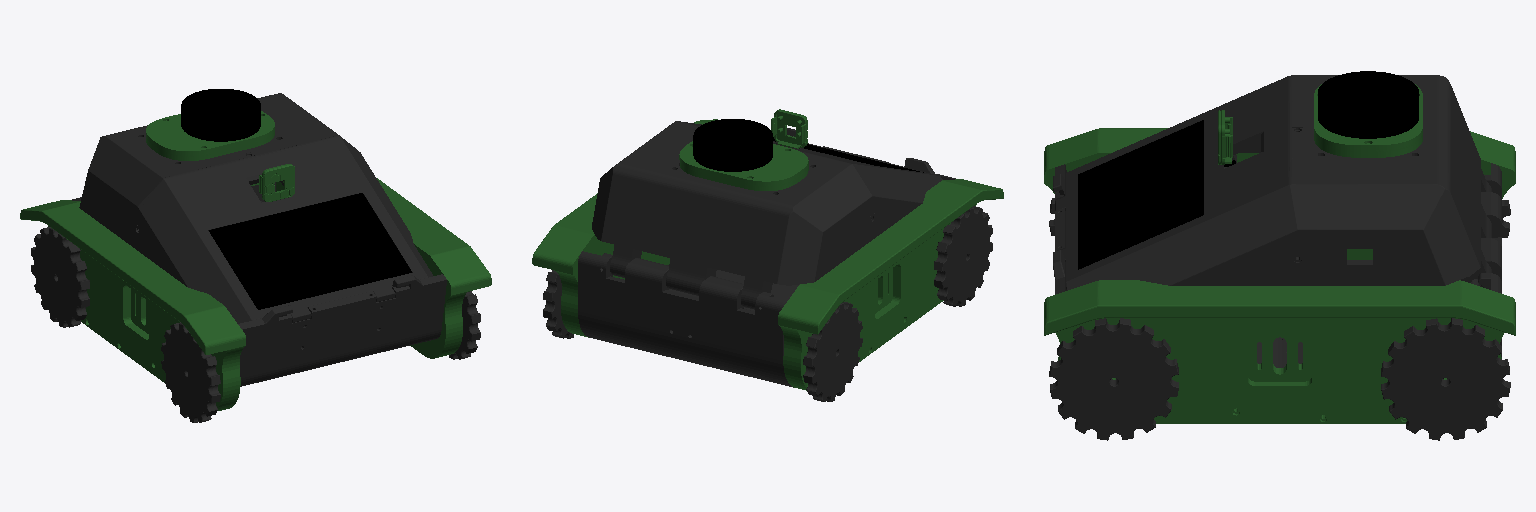
The robot description file, URDF, robot "AROBO7":
<?xml version="1.0" ?>
<!-- =================================================================================== -->
<!-- |    This document was autogenerated by xacro from [local-path]/dev_ws/src/AROBO7/description/robot.urdf.xacro | -->
<!-- |    EDITING THIS FILE BY HAND IS NOT RECOMMENDED                                 | -->
<!-- =================================================================================== -->
<robot name="AROBO7">
  <!-- Old ROS1 sub args from python script, dont use
<xacro:include filename="$(find AROBO7)/description/materials.xacro" />
<xacro:include filename="$(find AROBO7)/description/AROBO7.trans" />
<xacro:include filename="$(find AROBO7)/description/AROBO7.gazebo" />
-->
  <material name="silver">
    <color rgba="0.700 0.700 0.700 1.000"/>
  </material>
  <material name="olive">
    <color rgba="0.200 0.400 0.200 1.000"/>
  </material>
  <material name="black">
    <color rgba="0.00 0.00 0.00 1.000"/>
  </material>
  <material name="darkgrey">
    <color rgba="0.200 0.200 0.200 1.000"/>
  </material>
  <transmission name="right_drive_tran">
    <type>transmission_interface/SimpleTransmission</type>
    <joint name="right_drive">
      <hardwareInterface>hardware_interface/EffortJointInterface</hardwareInterface>
    </joint>
    <actuator name="right_drive_actr">
      <hardwareInterface>hardware_interface/EffortJointInterface</hardwareInterface>
      <mechanicalReduction>1</mechanicalReduction>
    </actuator>
  </transmission>
  <transmission name="left_drive_tran">
    <type>transmission_interface/SimpleTransmission</type>
    <joint name="left_drive">
      <hardwareInterface>hardware_interface/EffortJointInterface</hardwareInterface>
    </joint>
    <actuator name="left_drive_actr">
      <hardwareInterface>hardware_interface/EffortJointInterface</hardwareInterface>
      <mechanicalReduction>1</mechanicalReduction>
    </actuator>
  </transmission>
  <gazebo>
    <plugin filename="libgazebo_ros_control.so" name="control"/>
  </gazebo>
  <gazebo reference="base_link">
    <material>Gazebo/Grey</material>
    <mu1>0.2</mu1>
    <mu2>0.2</mu2>
    <selfCollide>true</selfCollide>
    <gravity>true</gravity>
  </gazebo>
  <gazebo reference="drive_side_plate_v42_1_1">
    <material>Gazebo/Green</material>
    <mu1>0.2</mu1>
    <mu2>0.2</mu2>
    <selfCollide>true</selfCollide>
  </gazebo>
  <gazebo reference="sprocket_new_v28_1_1">
    <material>Gazebo/Grey</material>
    <mu1>0.05</mu1>
    <mu2>0.05</mu2>
    <selfCollide>true</selfCollide>
  </gazebo>
  <gazebo reference="sprocket_new_v28_2_1">
    <material>Gazebo/Grey</material>
    <mu1>0.2</mu1>
    <mu2>0.2</mu2>
    <selfCollide>true</selfCollide>
  </gazebo>
  <gazebo reference="drive_side_plate_v42_Mirror__1_1">
    <material>Gazebo/Green</material>
    <mu1>0.2</mu1>
    <mu2>0.2</mu2>
    <selfCollide>true</selfCollide>
  </gazebo>
  <gazebo reference="sprocket_new_v28_4_1">
    <material>Gazebo/Grey</material>
    <mu1>0.2</mu1>
    <mu2>0.2</mu2>
    <selfCollide>true</selfCollide>
  </gazebo>
  <gazebo reference="sprocket_new_v28_3_1">
    <material>Gazebo/Grey</material>
    <mu1>0.05</mu1>
    <mu2>0.05</mu2>
    <selfCollide>true</selfCollide>
  </gazebo>
  <gazebo reference="lower_chassis_front_v6_1_1">
    <material>Gazebo/Grey</material>
    <mu1>0.2</mu1>
    <mu2>0.2</mu2>
    <selfCollide>true</selfCollide>
  </gazebo>
  <gazebo reference="upper_chassis_back_v10_1_1">
    <material>Gazebo/Grey</material>
    <mu1>0.2</mu1>
    <mu2>0.2</mu2>
    <selfCollide>true</selfCollide>
  </gazebo>
  <gazebo reference="upper_chassis_front_v12_1_1">
    <material>Gazebo/Grey</material>
    <mu1>0.2</mu1>
    <mu2>0.2</mu2>
    <selfCollide>true</selfCollide>
  </gazebo>
  <gazebo reference="RpLidar_Case_Top_High_v6_1_1">
    <material>Gazebo/Green</material>
    <mu1>0.2</mu1>
    <mu2>0.2</mu2>
    <selfCollide>true</selfCollide>
  </gazebo>
  <gazebo reference="rplidar_sensor_v1_1_1">
    <material>Gazebo/Black</material>
    <mu1>0.2</mu1>
    <mu2>0.2</mu2>
    <selfCollide>true</selfCollide>
  </gazebo>
  <gazebo reference="RpLidar_Case_Bot_v8_1_1">
    <material>Gazebo/Green</material>
    <mu1>0.2</mu1>
    <mu2>0.2</mu2>
    <selfCollide>true</selfCollide>
  </gazebo>
  <gazebo reference="IPITSBIT_Touchscreen_7in_v4_1_1">
    <material>Gazebo/Black</material>
    <mu1>0.2</mu1>
    <mu2>0.2</mu2>
    <selfCollide>true</selfCollide>
  </gazebo>
  <gazebo reference="camera_back_2">
    <material>Gazebo/Green</material>
    <mu1>0.2</mu1>
    <mu2>0.2</mu2>
    <selfCollide>true</selfCollide>
  </gazebo>
  <gazebo reference="camera_front_v7_1_1">
    <material>Gazebo/Green</material>
    <mu1>0.2</mu1>
    <mu2>0.2</mu2>
    <selfCollide>true</selfCollide>
  </gazebo>
  <link name="base_link">
    <inertial>
      <origin rpy="0 0 0" xyz="0.13096721223027635 0.20058924182261065 0.2752839368254627"/>
      <mass value="3.2922550379120885"/>
      <inertia ixx="0.011321" ixy="-4e-06" ixz="-1e-06" iyy="0.016138" iyz="-0.003328" izz="0.021277"/>
    </inertial>
    <visual>
      <origin rpy="0 0 0" xyz="0 0 0"/>
      <geometry>
        <mesh filename="package://AROBO7/description/meshes/base_link.stl" scale="0.001 0.001 0.001"/>
      </geometry>
      <material name="darkgrey"/>
    </visual>
    <collision>
      <origin rpy="0 0 0" xyz="0 0 0"/>
      <geometry>
        <mesh filename="package://AROBO7/description/meshes/base_link.stl" scale="0.001 0.001 0.001"/>
      </geometry>
    </collision>
  </link>
  <link name="drive_side_plate_v42_1_1">
    <inertial>
      <origin rpy="0 0 0" xyz="-0.012023150431202044 -0.09333406272773866 0.0566326473522496"/>
      <mass value="5.326807202481426"/>
      <inertia ixx="0.052355" ixy="6.5e-05" ixz="0.000596" iyy="0.00619" iyz="-0.000154" izz="0.047069"/>
    </inertial>
    <visual>
      <origin rpy="0 0 0" xyz="-0.020984 -0.18342 -0.253475"/>
      <geometry>
        <mesh filename="package://AROBO7/description/meshes/drive_side_plate_v42_1_1.stl" scale="0.001 0.001 0.001"/>
      </geometry>
      <material name="olive"/>
    </visual>
    <collision>
      <origin rpy="0 0 0" xyz="-0.020984 -0.18342 -0.253475"/>
      <geometry>
        <mesh filename="package://AROBO7/description/meshes/drive_side_plate_v42_1_1.stl" scale="0.001 0.001 0.001"/>
      </geometry>
    </collision>
  </link>
  <link name="sprocket_new_v28_1_1">
    <inertial>
      <origin rpy="0 0 0" xyz="-0.010830985333184509 2.382412599234718e-06 -3.4590502762665842e-06"/>
      <mass value="0.5034568043679143"/>
      <inertia ixx="0.000505" ixy="-0.0" ixz="0.0" iyy="0.000257" iyz="-0.0" izz="0.000257"/>
    </inertial>
    <visual>
      <origin rpy="0 0 0" xyz="-0.002484 0.028711 -0.290475"/>
      <geometry>
        <mesh filename="package://AROBO7/description/meshes/sprocket_new_v28_1_1.stl" scale="0.001 0.001 0.001"/>
      </geometry>
      <material name="darkgrey"/>
    </visual>
    <collision>
      <origin rpy="0 0 0" xyz="-0.002484 0.028711 -0.290475"/>
      <geometry>
        <mesh filename="package://AROBO7/description/meshes/sprocket_new_v28_1_1.stl" scale="0.001 0.001 0.001"/>
      </geometry>
    </collision>
  </link>
  <link name="sprocket_new_v28_2_1">
    <inertial>
      <origin rpy="0 0 0" xyz="-0.01083098533318511 2.3777572445426998e-06 -3.459050277654363e-06"/>
      <mass value="0.5034568043679143"/>
      <inertia ixx="0.000505" ixy="-0.0" ixz="0.0" iyy="0.000257" iyz="-0.0" izz="0.000257"/>
    </inertial>
    <visual>
      <origin rpy="0 0 0" xyz="-0.002484 -0.213419 -0.290475"/>
      <geometry>
        <mesh filename="package://AROBO7/description/meshes/sprocket_new_v28_2_1.stl" scale="0.001 0.001 0.001"/>
      </geometry>
      <material name="darkgrey"/>
    </visual>
    <collision>
      <origin rpy="0 0 0" xyz="-0.002484 -0.213419 -0.290475"/>
      <geometry>
        <mesh filename="package://AROBO7/description/meshes/sprocket_new_v28_2_1.stl" scale="0.001 0.001 0.001"/>
      </geometry>
    </collision>
  </link>
  <link name="drive_side_plate_v42_Mirror__1_1">
    <inertial>
      <origin rpy="0 0 0" xyz="0.012022509624825789 -0.14949706270783558 0.04579464742293965"/>
      <mass value="5.326807201855023"/>
      <inertia ixx="0.052355" ixy="-6.5e-05" ixz="-0.000596" iyy="0.00619" iyz="-0.000154" izz="0.047069"/>
    </inertial>
    <visual>
      <origin rpy="0 0 0" xyz="-0.240984 -0.239583 -0.264313"/>
      <geometry>
        <mesh filename="package://AROBO7/description/meshes/drive_side_plate_v42_Mirror__1_1.stl" scale="0.001 0.001 0.001"/>
      </geometry>
      <material name="olive"/>
    </visual>
    <collision>
      <origin rpy="0 0 0" xyz="-0.240984 -0.239583 -0.264313"/>
      <geometry>
        <mesh filename="package://AROBO7/description/meshes/drive_side_plate_v42_Mirror__1_1.stl" scale="0.001 0.001 0.001"/>
      </geometry>
    </collision>
  </link>
  <link name="sprocket_new_v28_4_1">
    <inertial>
      <origin rpy="0 0 0" xyz="0.010830340021314333 2.377757242044698e-06 4.442076691701935e-06"/>
      <mass value="0.5034568043679111"/>
      <inertia ixx="0.000505" ixy="0.0" ixz="0.0" iyy="0.000257" iyz="0.0" izz="0.000257"/>
    </inertial>
    <visual>
      <origin rpy="0 0 0" xyz="-0.259484 -0.213419 -0.290475"/>
      <geometry>
        <mesh filename="package://AROBO7/description/meshes/sprocket_new_v28_4_1.stl" scale="0.001 0.001 0.001"/>
      </geometry>
      <material name="darkgrey"/>
    </visual>
    <collision>
      <origin rpy="0 0 0" xyz="-0.259484 -0.213419 -0.290475"/>
      <geometry>
        <mesh filename="package://AROBO7/description/meshes/sprocket_new_v28_4_1.stl" scale="0.001 0.001 0.001"/>
      </geometry>
    </collision>
  </link>
  <link name="sprocket_new_v28_3_1">
    <inertial>
      <origin rpy="0 0 0" xyz="0.010830340021315554 2.3824125974930555e-06 4.4420766926456245e-06"/>
      <mass value="0.5034568043679192"/>
      <inertia ixx="0.000505" ixy="0.0" ixz="0.0" iyy="0.000257" iyz="0.0" izz="0.000257"/>
    </inertial>
    <visual>
      <origin rpy="0 0 0" xyz="-0.259484 0.028711 -0.290475"/>
      <geometry>
        <mesh filename="package://AROBO7/description/meshes/sprocket_new_v28_3_1.stl" scale="0.001 0.001 0.001"/>
      </geometry>
      <material name="darkgrey"/>
    </visual>
    <collision>
      <origin rpy="0 0 0" xyz="-0.259484 0.028711 -0.290475"/>
      <geometry>
        <mesh filename="package://AROBO7/description/meshes/sprocket_new_v28_3_1.stl" scale="0.001 0.001 0.001"/>
      </geometry>
    </collision>
  </link>
  <link name="lower_chassis_front_v6_1_1">
    <inertial>
      <origin rpy="0 0 0" xyz="-0.06752027497646867 -0.10569116129549466 0.026875055875444365"/>
      <mass value="3.0761672555380986"/>
      <inertia ixx="0.010661" ixy="2e-06" ixz="-1e-06" iyy="0.014341" iyz="0.003357" izz="0.021129"/>
    </inertial>
    <visual>
      <origin rpy="0 0 0" xyz="-0.198484 -0.101605 -0.253475"/>
      <geometry>
        <mesh filename="package://AROBO7/description/meshes/lower_chassis_front_v6_1_1.stl" scale="0.001 0.001 0.001"/>
      </geometry>
      <material name="darkgrey"/>
    </visual>
    <collision>
      <origin rpy="0 0 0" xyz="-0.198484 -0.101605 -0.253475"/>
      <geometry>
        <mesh filename="package://AROBO7/description/meshes/lower_chassis_front_v6_1_1.stl" scale="0.001 0.001 0.001"/>
      </geometry>
    </collision>
  </link>
  <link name="upper_chassis_back_v10_1_1">
    <inertial>
      <origin rpy="0 0 0" xyz="0.02069821423371679 -0.04681860405746971 0.053343397365645306"/>
      <mass value="3.8016594283307508"/>
      <inertia ixx="0.008862" ixy="0.00016" ixz="-0.000247" iyy="0.026179" iyz="0.001827" izz="0.030198"/>
    </inertial>
    <visual>
      <origin rpy="0 0 0" xyz="-0.110984 -0.23642 -0.338705"/>
      <geometry>
        <mesh filename="package://AROBO7/description/meshes/upper_chassis_back_v10_1_1.stl" scale="0.001 0.001 0.001"/>
      </geometry>
      <material name="darkgrey"/>
    </visual>
    <collision>
      <origin rpy="0 0 0" xyz="-0.110984 -0.23642 -0.338705"/>
      <geometry>
        <mesh filename="package://AROBO7/description/meshes/upper_chassis_back_v10_1_1.stl" scale="0.001 0.001 0.001"/>
      </geometry>
    </collision>
  </link>
  <link name="upper_chassis_front_v12_1_1">
    <inertial>
      <origin rpy="0 0 0" xyz="-0.00011191810875865738 -0.0686938821678975 -0.04016009009950566"/>
      <mass value="2.368628323291725"/>
      <inertia ixx="0.00684" ixy="4.7e-05" ixz="2e-05" iyy="0.018257" iyz="-0.002351" izz="0.022292"/>
    </inertial>
    <visual>
      <origin rpy="0 0 0" xyz="-0.130884 -0.105388 -0.422426"/>
      <geometry>
        <mesh filename="package://AROBO7/description/meshes/upper_chassis_front_v12_1_1.stl" scale="0.001 0.001 0.001"/>
      </geometry>
      <material name="darkgrey"/>
    </visual>
    <collision>
      <origin rpy="0 0 0" xyz="-0.130884 -0.105388 -0.422426"/>
      <geometry>
        <mesh filename="package://AROBO7/description/meshes/upper_chassis_front_v12_1_1.stl" scale="0.001 0.001 0.001"/>
      </geometry>
    </collision>
  </link>
  <link name="RpLidar_Case_Top_High_v6_1_1">
    <inertial>
      <origin rpy="0 0 0" xyz="-0.06417189427357384 -3.830630171119953e-07 0.0025803158490367295"/>
      <mass value="0.0845829809011377"/>
      <inertia ixx="5.7e-05" ixy="-0.0" ixz="0.0" iyy="0.000128" iyz="-0.0" izz="0.000185"/>
    </inertial>
    <visual>
      <origin rpy="0 0 0" xyz="-0.174394 -0.156967 -0.432527"/>
      <geometry>
        <mesh filename="package://AROBO7/description/meshes/RpLidar_Case_Top_High_v6_1_1.stl" scale="0.001 0.001 0.001"/>
      </geometry>
      <material name="olive"/>
    </visual>
    <collision>
      <origin rpy="0 0 0" xyz="-0.174394 -0.156967 -0.432527"/>
      <geometry>
        <mesh filename="package://AROBO7/description/meshes/RpLidar_Case_Top_High_v6_1_1.stl" scale="0.001 0.001 0.001"/>
      </geometry>
    </collision>
  </link>
  <link name="RpLidar_Case_Bot_v8_1_1">
    <inertial>
      <origin rpy="0 0 0" xyz="-0.05411714563331993 -0.034343073172691474 -0.013957332277793222"/>
      <mass value="0.4471773333473896"/>
      <inertia ixx="0.000464" ixy="0.0" ixz="0.0" iyy="0.000828" iyz="-0.0" izz="0.001112"/>
    </inertial>
    <visual>
      <origin rpy="0 0 0" xyz="-0.173633 -0.19131 -0.418526"/>
      <geometry>
        <mesh filename="package://AROBO7/description/meshes/RpLidar_Case_Bot_v8_1_1.stl" scale="0.001 0.001 0.001"/>
      </geometry>
      <material name="olive"/>
    </visual>
    <collision>
      <origin rpy="0 0 0" xyz="-0.173633 -0.19131 -0.418526"/>
      <geometry>
        <mesh filename="package://AROBO7/description/meshes/RpLidar_Case_Bot_v8_1_1.stl" scale="0.001 0.001 0.001"/>
      </geometry>
    </collision>
  </link>
  <link name="IPITSBIT_Touchscreen_7in_v4_1_1">
    <inertial>
      <origin rpy="0 0 0" xyz="0.07744240382982455 -0.044640388141649646 -0.012662220006309233"/>
      <mass value="1.0746135799107448"/>
      <inertia ixx="0.000975" ixy="3e-06" ixz="1e-06" iyy="0.00261" iyz="-0.000373" izz="0.003217"/>
    </inertial>
    <visual>
      <origin rpy="0 0 0" xyz="-0.053384 -0.037674 -0.383372"/>
      <geometry>
        <mesh filename="package://AROBO7/description/meshes/IPITSBIT_Touchscreen_7in_v4_1_1.stl" scale="0.001 0.001 0.001"/>
      </geometry>
      <material name="black"/>
    </visual>
    <collision>
      <origin rpy="0 0 0" xyz="-0.053384 -0.037674 -0.383372"/>
      <geometry>
        <mesh filename="package://AROBO7/description/meshes/IPITSBIT_Touchscreen_7in_v4_1_1.stl" scale="0.001 0.001 0.001"/>
      </geometry>
    </collision>
  </link>
  <link name="camera_back_2">
    <inertial>
      <origin rpy="0 0 0" xyz="0.015270203785861136 0.0004686192161018968 0.026827273506477456"/>
      <mass value="0.0414113473956684"/>
      <inertia ixx="8e-06" ixy="0.0" ixz="-0.0" iyy="1.3e-05" iyz="0.0" izz="6e-06"/>
    </inertial>
    <visual>
      <origin rpy="0 0 0" xyz="-0.115484 -0.055947 -0.390489"/>
      <geometry>
        <mesh filename="package://AROBO7/description/meshes/camera_back_2.stl" scale="0.001 0.001 0.001"/>
      </geometry>
      <material name="olive"/>
    </visual>
    <collision>
      <origin rpy="0 0 0" xyz="-0.115484 -0.055947 -0.390489"/>
      <geometry>
        <mesh filename="package://AROBO7/description/meshes/camera_back_2.stl" scale="0.001 0.001 0.001"/>
      </geometry>
    </collision>
  </link>
  <link name="camera_front_v7_1_1">
    <inertial>
      <origin rpy="0 0 0" xyz="-0.016513588197264645 -0.003812104733532551 -0.009160087315544907"/>
      <mass value="0.030275096674156586"/>
      <inertia ixx="3e-06" ixy="0.0" ixz="-0.0" iyy="6e-06" iyz="0.0" izz="4e-06"/>
    </inertial>
    <visual>
      <origin rpy="0 0 0" xyz="-0.147484 -0.054116 -0.429139"/>
      <geometry>
        <mesh filename="package://AROBO7/description/meshes/camera_front_v7_1_1.stl" scale="0.001 0.001 0.001"/>
      </geometry>
      <material name="olive"/>
    </visual>
    <collision>
      <origin rpy="0 0 0" xyz="-0.147484 -0.054116 -0.429139"/>
      <geometry>
        <mesh filename="package://AROBO7/description/meshes/camera_front_v7_1_1.stl" scale="0.001 0.001 0.001"/>
      </geometry>
    </collision>
  </link>
  <joint name="Rigid 1" type="fixed">
    <origin rpy="0 0 0" xyz="0.020984 0.18342 0.253475"/>
    <parent link="base_link"/>
    <child link="drive_side_plate_v42_1_1"/>
  </joint>
  <joint name="Rigid 2" type="fixed">
    <origin rpy="0 0 0" xyz="-0.0185 -0.212131 0.037"/>
    <parent link="drive_side_plate_v42_1_1"/>
    <child link="sprocket_new_v28_1_1"/>
  </joint>
  <joint name="right_drive" type="continuous">
    <origin rpy="0 0 0" xyz="-0.0185 0.029999 0.037"/>
    <parent link="drive_side_plate_v42_1_1"/>
    <child link="sprocket_new_v28_2_1"/>
    <axis xyz="1.0 -0.0 0.0"/>
  </joint>
  <joint name="Rigid 4" type="fixed">
    <origin rpy="0 0 0" xyz="0.240984 0.239583 0.264313"/>
    <parent link="base_link"/>
    <child link="drive_side_plate_v42_Mirror__1_1"/>
  </joint>
  <joint name="left_drive" type="continuous">
    <origin rpy="0 0 0" xyz="0.0185 -0.026164 0.026162"/>
    <parent link="drive_side_plate_v42_Mirror__1_1"/>
    <child link="sprocket_new_v28_4_1"/>
    <axis xyz="1.0 -0.0 0.0"/>
  </joint>
  <joint name="Rigid 6" type="fixed">
    <origin rpy="0 0 0" xyz="0.0185 -0.268294 0.026162"/>
    <parent link="drive_side_plate_v42_Mirror__1_1"/>
    <child link="sprocket_new_v28_3_1"/>
  </joint>
  <joint name="Rigid 7" type="fixed">
    <origin rpy="0 0 0" xyz="0.198484 0.101605 0.253475"/>
    <parent link="base_link"/>
    <child link="lower_chassis_front_v6_1_1"/>
  </joint>
  <joint name="Rigid 8" type="fixed">
    <origin rpy="0 0 0" xyz="0.110984 0.23642 0.338705"/>
    <parent link="base_link"/>
    <child link="upper_chassis_back_v10_1_1"/>
  </joint>
  <joint name="Rigid 9" type="fixed">
    <origin rpy="0 0 0" xyz="0.0199 -0.131032 0.083721"/>
    <parent link="upper_chassis_back_v10_1_1"/>
    <child link="upper_chassis_front_v12_1_1"/>
  </joint>
  <joint name="Rigid 10" type="fixed">
    <origin rpy="0 0 0" xyz="0.000761 -0.034343 0.014001"/>
    <parent link="RpLidar_Case_Bot_v8_1_1"/>
    <child link="RpLidar_Case_Top_High_v6_1_1"/>
  </joint>
  <joint name="Rigid 12" type="fixed">
    <origin rpy="0 0 0" xyz="0.062649 -0.04511 0.079821"/>
    <parent link="upper_chassis_back_v10_1_1"/>
    <child link="RpLidar_Case_Bot_v8_1_1"/>
  </joint>
  <joint name="Rigid 13" type="fixed">
    <origin rpy="0 0 0" xyz="-0.0775 -0.067714 -0.039054"/>
    <parent link="upper_chassis_front_v12_1_1"/>
    <child link="IPITSBIT_Touchscreen_7in_v4_1_1"/>
  </joint>
  <joint name="Rigid 16" type="fixed">
    <origin rpy="0 0 0" xyz="-0.0154 -0.049441 -0.031937"/>
    <parent link="upper_chassis_front_v12_1_1"/>
    <child link="camera_back_2"/>
  </joint>
  <joint name="Rigid 17" type="fixed">
    <origin rpy="0 0 0" xyz="0.032 -0.001831 0.03865"/>
    <parent link="camera_back_2"/>
    <child link="camera_front_v7_1_1"/>
  </joint>
  <gazebo>
    <plugin filename="libgazebo_ros_diff_drive.so" name="diff_drive">
      <!-- Wheel Information-->
      <left_joint>left_drive</left_joint>
      <right_joint>right_drive</right_joint>
      <wheel_separation>0.277</wheel_separation>
      <wheel_diameter>0.102</wheel_diameter>
      <!-- Limits -->
      <max_wheel_torque>200</max_wheel_torque>
      <max_wheel_acceleration>10.0</max_wheel_acceleration>
      <!-- Output -->
      <odometry_frame>odom</odometry_frame>
      <robot_base_frame>base_link</robot_base_frame>
      <publish_odom>true</publish_odom>
      <publish_odom_tf>true</publish_odom_tf>
      <publish_wheel_tf>true</publish_wheel_tf>
    </plugin>
  </gazebo>
  <joint name="lidar_joint" type="fixed">
    <origin rpy="0 0 0" xyz="-0.0435 0.0 0.004"/>
    <parent link="RpLidar_Case_Top_High_v6_1_1"/>
    <child link="rplidar_sensor_v1_1_1"/>
  </joint>
  <link name="rplidar_sensor_v1_1_1">
    <inertial>
      <origin rpy="0 0 0" xyz="-3.677012131997337e-07 -3.7389566448498e-07 0.00999977147532144"/>
      <mass value="0.675231933814029"/>
      <inertia ixx="0.000254" ixy="-0.0" ixz="-0.0" iyy="0.000254" iyz="-0.0" izz="0.000462"/>
    </inertial>
    <visual>
      <origin rpy="0 0 0" xyz="-0.130894 -0.156967 -0.436527"/>
      <geometry>
        <mesh filename="package://AROBO7/description/meshes/rplidar_sensor_v1_1_1.stl" scale="0.001 0.001 0.001"/>
      </geometry>
      <material name="black"/>
    </visual>
    <collision>
      <origin rpy="0 0 0" xyz="-0.130894 -0.156967 -0.436527"/>
      <geometry>
        <mesh filename="package://AROBO7/description/meshes/rplidar_sensor_v1_1_1.stl" scale="0.001 0.001 0.001"/>
      </geometry>
    </collision>
  </link>
  <gazebo reference="rplidar_sensor_v1_1_1">
    <sensor name="lidar" type="ray">
      <pose> 0 0 0 0 0 0 </pose>
      <visualize>true</visualize>
      <update_rate>10</update_rate>
      <ray>
        <scan>
          <horizontal>
            <samples>360</samples>
            <!--<resolution>1</resolution>-->
            <min_angle>-3.14</min_angle>
            <max_angle>3.14</max_angle>
          </horizontal>
        </scan>
        <range>
          <min>0.3</min>
          <max>12</max>
          <!--<resolution>0.01</resolution>-->
        </range>
      </ray>
      <plugin filename="libgazebo_ros_ray_sensor.so" name="lidar_controller">
        <ros>
          <argument>~/out:=scan</argument>
        </ros>
        <output_type>sensor_msgs/LaserScan</output_type>
        <frame_name>rplidar_sensor_v1_1_1</frame_name>
      </plugin>
    </sensor>
  </gazebo>
</robot>

--- What the picture shows (computed from the rendered views, not written in the file) ---
3 views of the same robot in one strip: view 1: azimuth 30°, elevation 25°; view 2: azimuth 150°, elevation 25°; view 3: azimuth 270°, elevation 25° (orthographic).
Robot: AROBO7 — 16 links, 15 joints (2 continuous, 13 fixed); root link base_link; default pose: every joint at zero.
Visible links, largest first — view 1: upper_chassis_front_v12_1_1, drive_side_plate_v42_1_1, IPITSBIT_Touchscreen_7in_v4_1_1, lower_chassis_front_v6_1_1, upper_chassis_back_v10_1_1, drive_side_plate_v42_Mirror__1_1, sprocket_new_v28_2_1, sprocket_new_v28_1_1, rplidar_sensor_v1_1_1, RpLidar_Case_Top_High_v6_1_1, sprocket_new_v28_3_1, camera_front_v7_1_1 (+1 smaller); view 2: upper_chassis_back_v10_1_1, base_link, drive_side_plate_v42_1_1, drive_side_plate_v42_Mirror__1_1, sprocket_new_v28_1_1, sprocket_new_v28_2_1, rplidar_sensor_v1_1_1, upper_chassis_front_v12_1_1, RpLidar_Case_Top_High_v6_1_1, camera_front_v7_1_1, sprocket_new_v28_4_1, lower_chassis_front_v6_1_1 (+1 smaller); view 3: drive_side_plate_v42_Mirror__1_1, upper_chassis_back_v10_1_1, upper_chassis_front_v12_1_1, IPITSBIT_Touchscreen_7in_v4_1_1, sprocket_new_v28_3_1, sprocket_new_v28_4_1, rplidar_sensor_v1_1_1, drive_side_plate_v42_1_1, base_link, lower_chassis_front_v6_1_1, RpLidar_Case_Top_High_v6_1_1, RpLidar_Case_Bot_v8_1_1 (+1 smaller).
Boxes of the visible links, x1,y1,x2,y2 form: upper_chassis_front_v12_1_1: (135, 135, 432, 323); drive_side_plate_v42_1_1: (20, 200, 245, 410); IPITSBIT_Touchscreen_7in_v4_1_1: (209, 193, 411, 309); lower_chassis_front_v6_1_1: (238, 274, 446, 386); upper_chassis_back_v10_1_1: (79, 93, 361, 251); drive_side_plate_v42_Mirror__1_1: (276, 178, 491, 358); sprocket_new_v28_2_1: (31, 227, 89, 327); sprocket_new_v28_1_1: (161, 322, 220, 422); rplidar_sensor_v1_1_1: (181, 89, 260, 141); RpLidar_Case_Top_High_v6_1_1: (146, 111, 274, 154); sprocket_new_v28_3_1: (449, 291, 480, 359); camera_front_v7_1_1: (259, 164, 294, 201); upper_chassis_back_v10_1_1: (592, 122, 874, 309); base_link: (578, 251, 793, 387); drive_side_plate_v42_1_1: (778, 179, 1003, 390); drive_side_plate_v42_Mirror__1_1: (532, 119, 717, 337); sprocket_new_v28_1_1: (934, 206, 992, 306); sprocket_new_v28_2_1: (803, 302, 862, 401); rplidar_sensor_v1_1_1: (693, 119, 772, 171); upper_chassis_front_v12_1_1: (675, 121, 942, 237); RpLidar_Case_Top_High_v6_1_1: (679, 141, 808, 185); camera_front_v7_1_1: (771, 109, 807, 148); sprocket_new_v28_4_1: (543, 270, 573, 338); lower_chassis_front_v6_1_1: (687, 128, 955, 300); drive_side_plate_v42_Mirror__1_1: (1044, 280, 1515, 423); upper_chassis_back_v10_1_1: (1292, 75, 1491, 286); upper_chassis_front_v12_1_1: (1055, 75, 1302, 290); IPITSBIT_Touchscreen_7in_v4_1_1: (1078, 120, 1235, 269); sprocket_new_v28_3_1: (1049, 318, 1178, 440); sprocket_new_v28_4_1: (1381, 318, 1510, 440); rplidar_sensor_v1_1_1: (1318, 71, 1418, 138); drive_side_plate_v42_1_1: (1044, 128, 1515, 259); base_link: (1282, 163, 1501, 356); lower_chassis_front_v6_1_1: (1053, 164, 1302, 367); RpLidar_Case_Top_High_v6_1_1: (1314, 84, 1422, 149); RpLidar_Case_Bot_v8_1_1: (1314, 134, 1422, 157).
Size in the robot's own frame: 0.307 by 0.3441 by 0.2135 metres.
15 mesh visuals loaded from 16 distinct referenced files (15 binary STL); not drawn: 1 (reference not matched to a file when rendering).